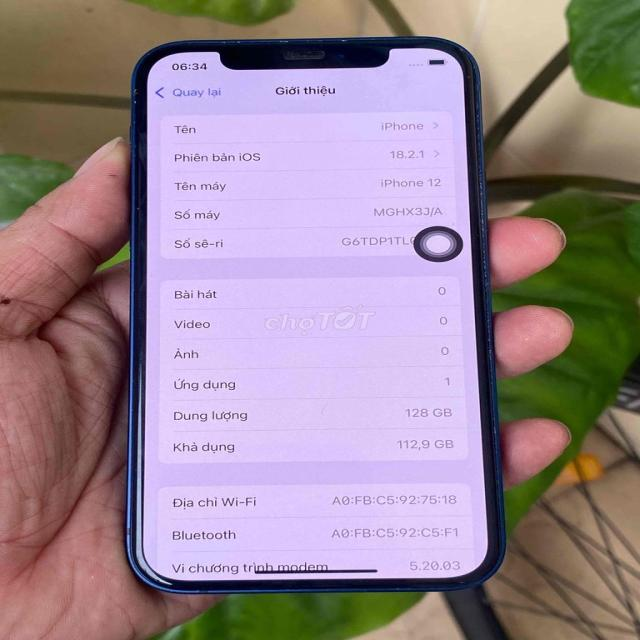scratch: (228, 29, 410, 56)
